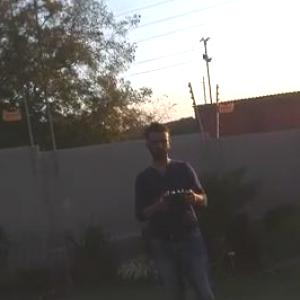follow: (120, 115, 218, 299)
